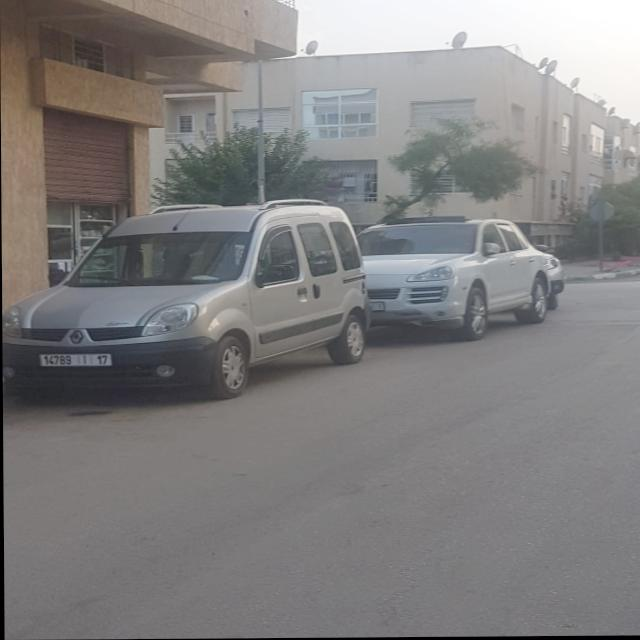License-Plate: (41, 355, 110, 365)
